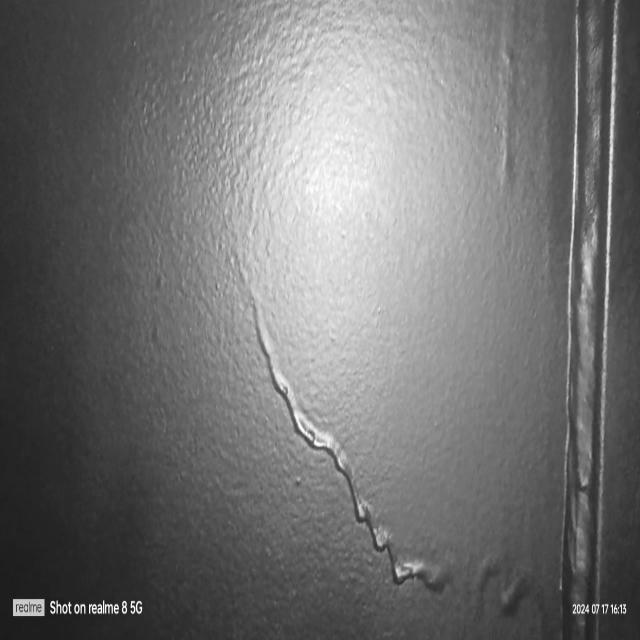paint drips: (244, 277, 556, 640), (489, 0, 536, 205)
